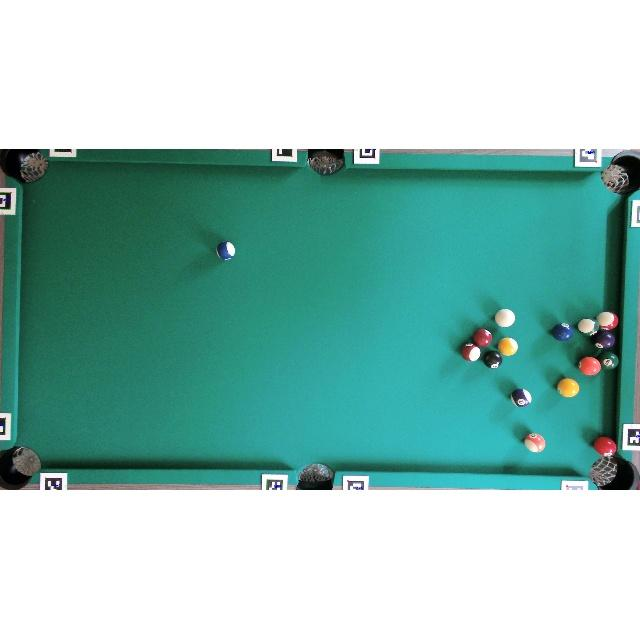cue ball: (494, 308, 516, 328)
other: (576, 316, 599, 337), (593, 436, 617, 456), (591, 330, 615, 350), (524, 432, 546, 452), (557, 378, 579, 398), (578, 357, 601, 376), (598, 352, 620, 371), (596, 312, 618, 331), (551, 323, 573, 341), (473, 328, 493, 347), (498, 337, 518, 356), (511, 389, 532, 407), (483, 350, 502, 369), (462, 344, 481, 362), (217, 242, 236, 260)
